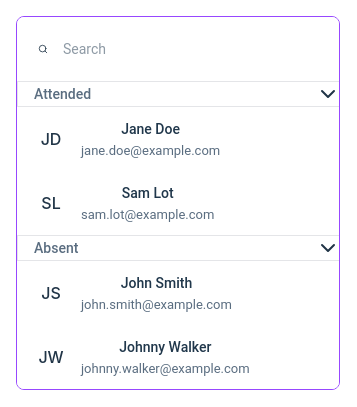
Test: SearchableList › toggles sections when clicking on the headers
Expected: the text "Jane Doe" is shown, [121,121,180,137]
Expected: the text "Sam Lot" is shown, [122,185,174,201]
# Click on the "Attended" header to toggle its section
Click the text "Attended".
click(63, 94)  # box [34,84,91,104]
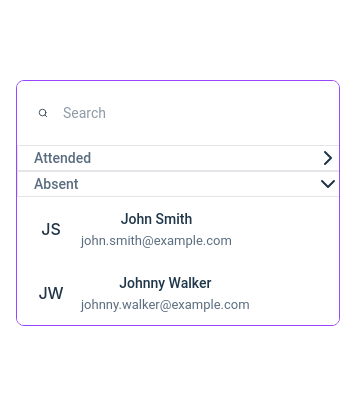
Expected: the text "Jane Doe" is gone
Expected: the text "Sam Lot" is gone
# Click on the "Attended" header again to expand it back
Click the text "Attended".
click(63, 158)  # box [34,148,91,168]
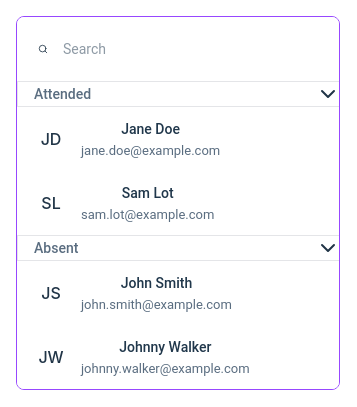
Expected: the text "Jane Doe" is shown, [121,121,180,137]
Expected: the text "Sam Lot" is shown, [122,185,174,201]
